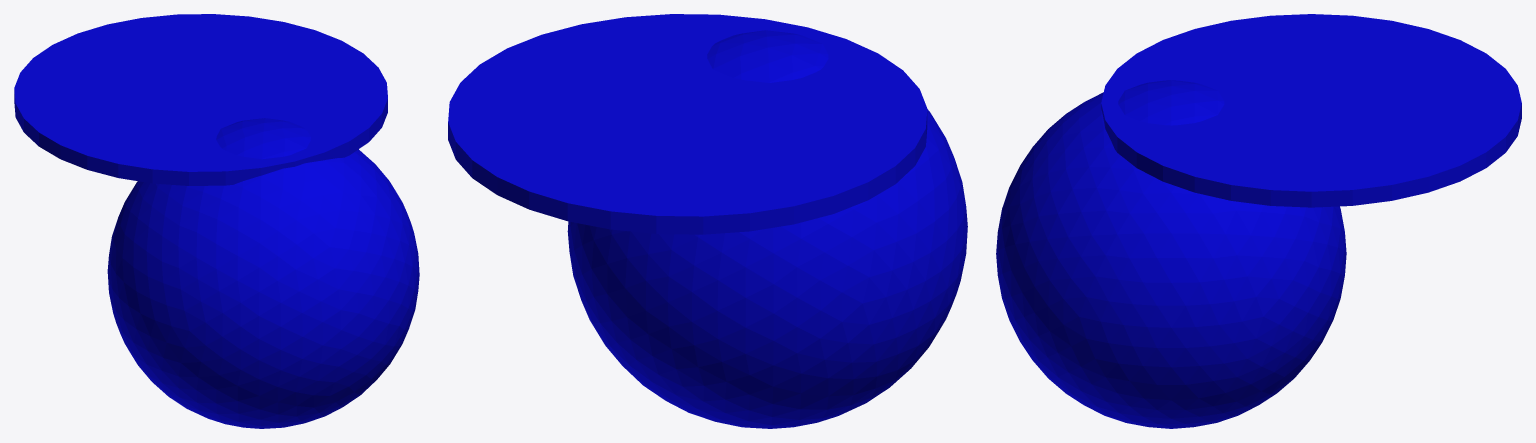
Rendered from blue_baseball_cap_colored.glb.
3 renders of one model, left to right at view 1: azimuth 30°, elevation 25°; view 2: azimuth 150°, elevation 25°; view 3: azimuth 270°, elevation 25°, orthographic. The views are drawn at different scales.
Visible parts, largest first — view 1: world; view 2: world; view 3: world.
Part boxes in pixels (x1,y1,x2,y2): world: (14,14,419,428); world: (448,14,967,428); world: (996,14,1521,428).
Size of the model in its own units: 0.24 by 0.2 by 0.3.
